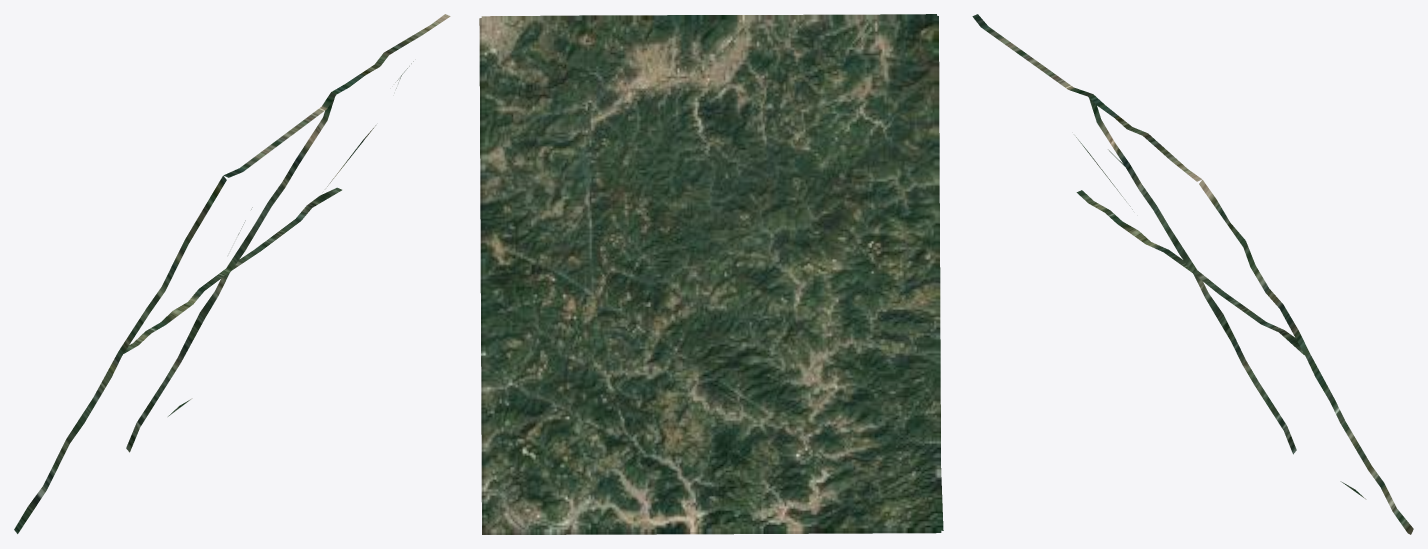
The picture shows the model from 3 angles, left to right: view 1: azimuth 30°, elevation 25°; view 2: azimuth 150°, elevation 25°; view 3: azimuth 270°, elevation 25°; orthographic projection. The views are drawn at different scales.
Bounding box in the file's own units: 79578 × 69988 × 68160.
Materials: 1 (1 with a texture image).
